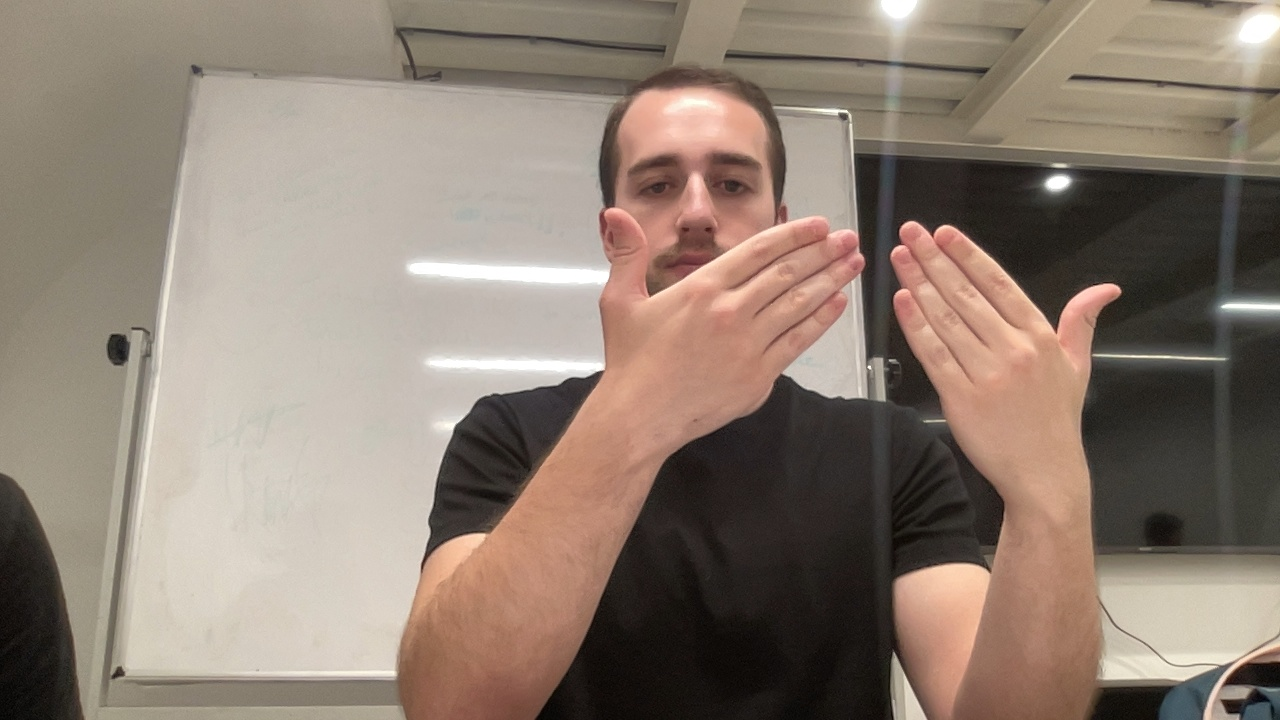Thank You: (592, 201, 1126, 516)
